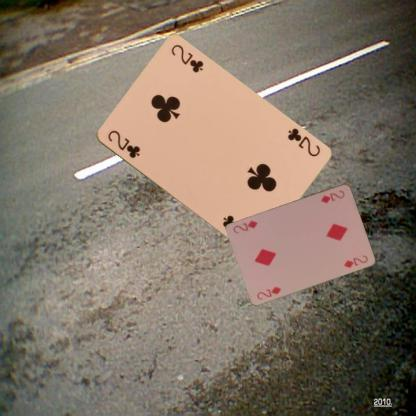2c: (284, 126, 322, 158), (105, 127, 141, 160)
2d: (318, 187, 346, 205), (254, 284, 283, 300)
